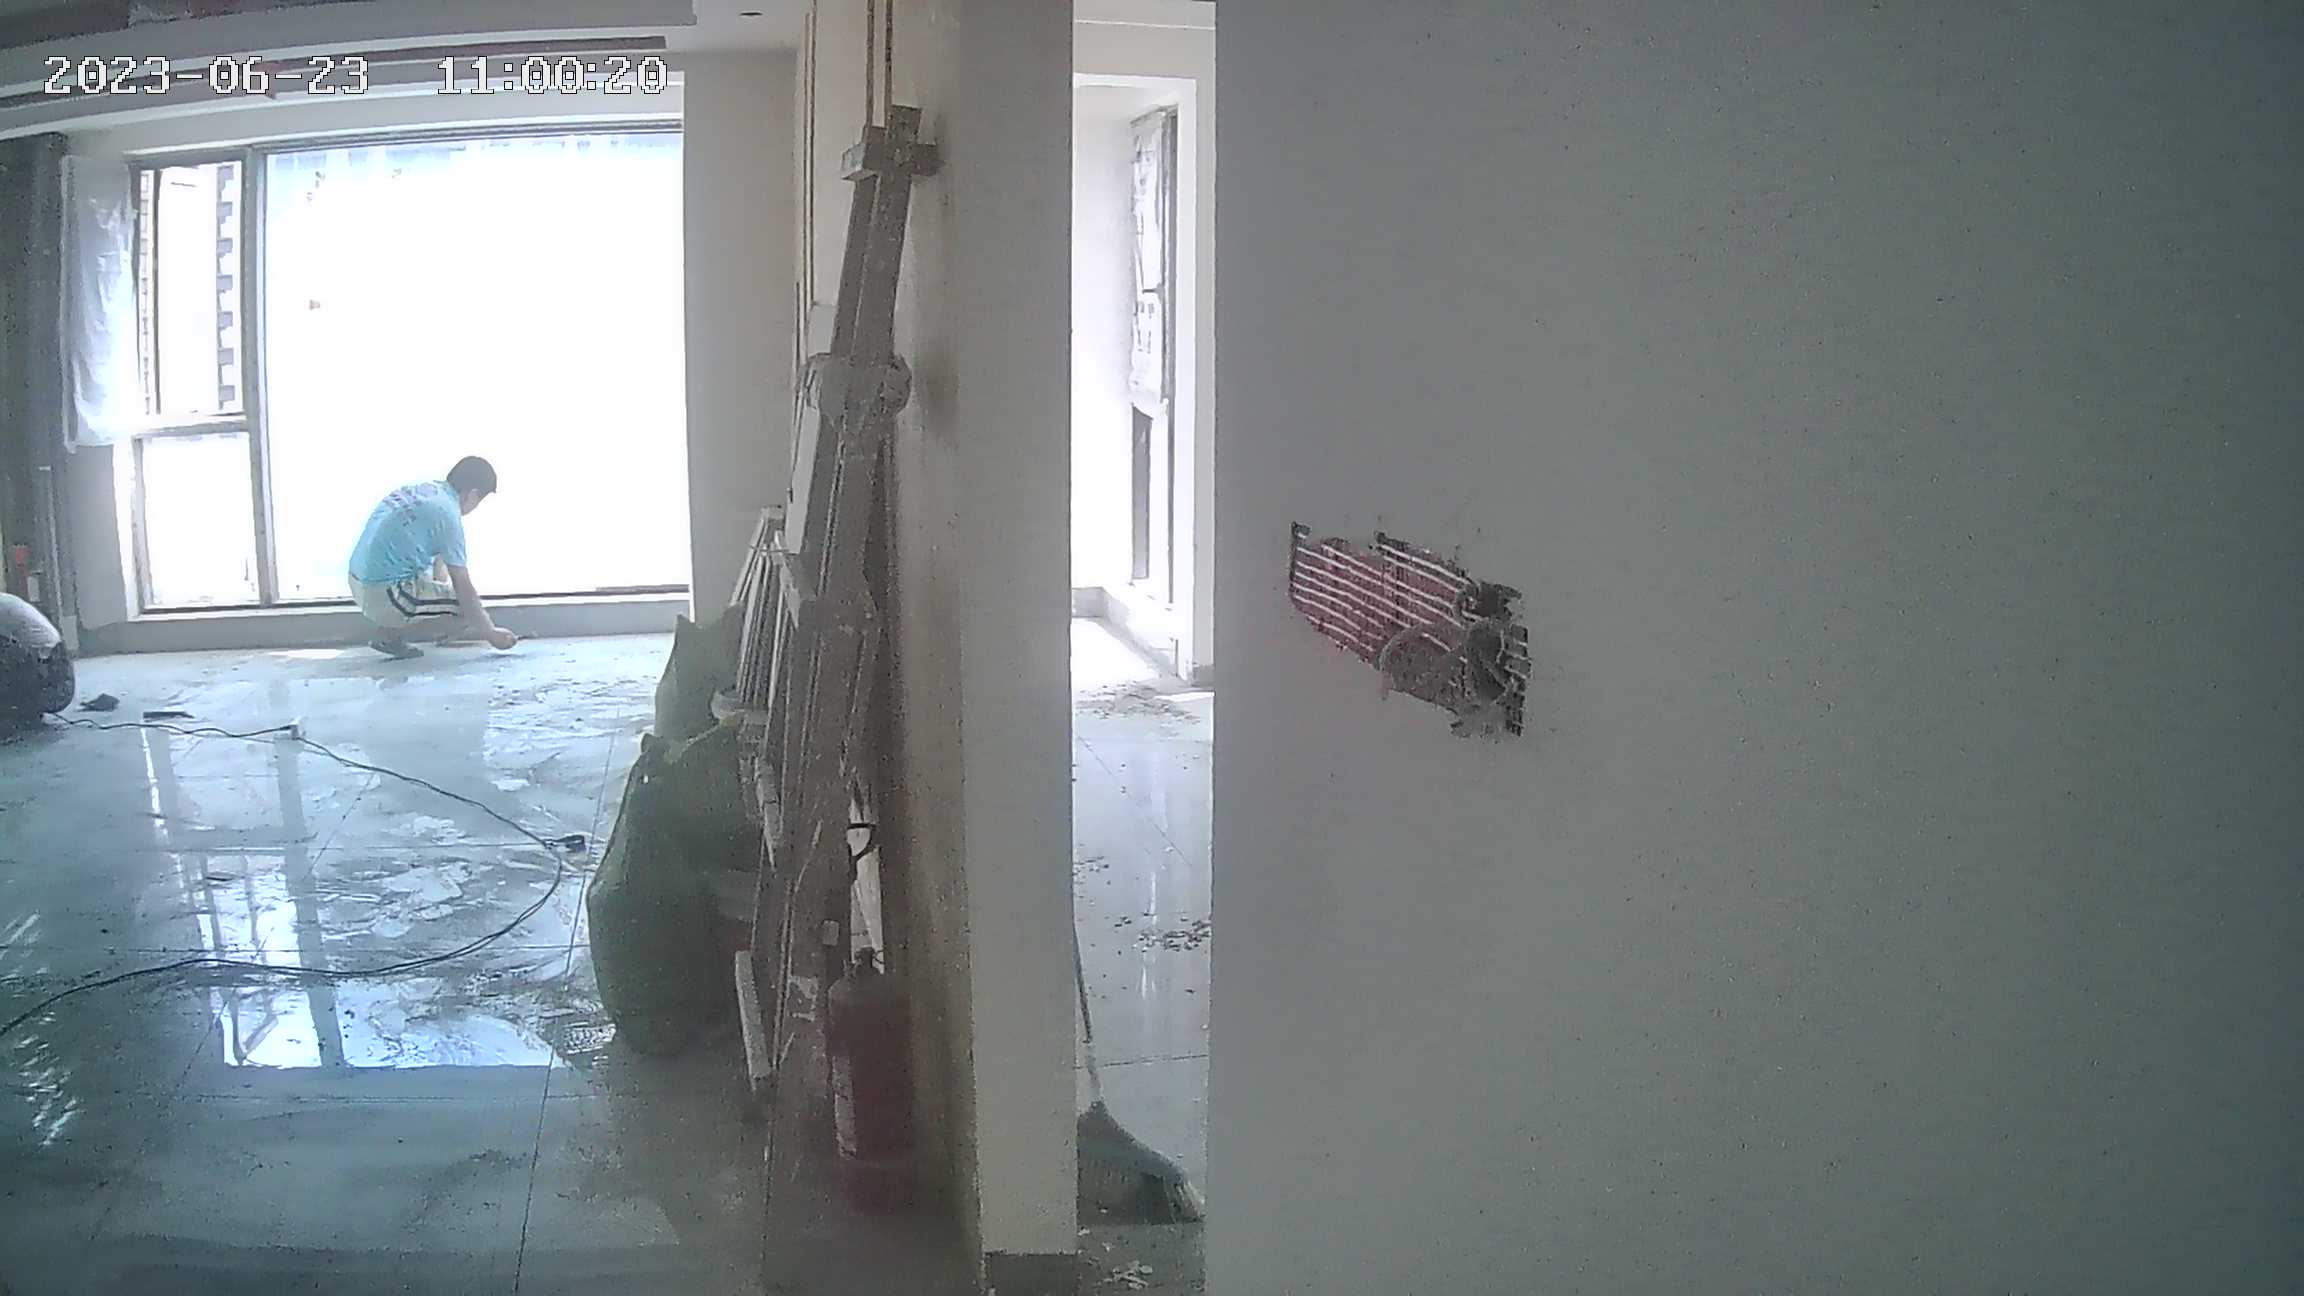people: (343, 455, 522, 671), (1, 590, 85, 748)
window: (109, 150, 702, 601)
